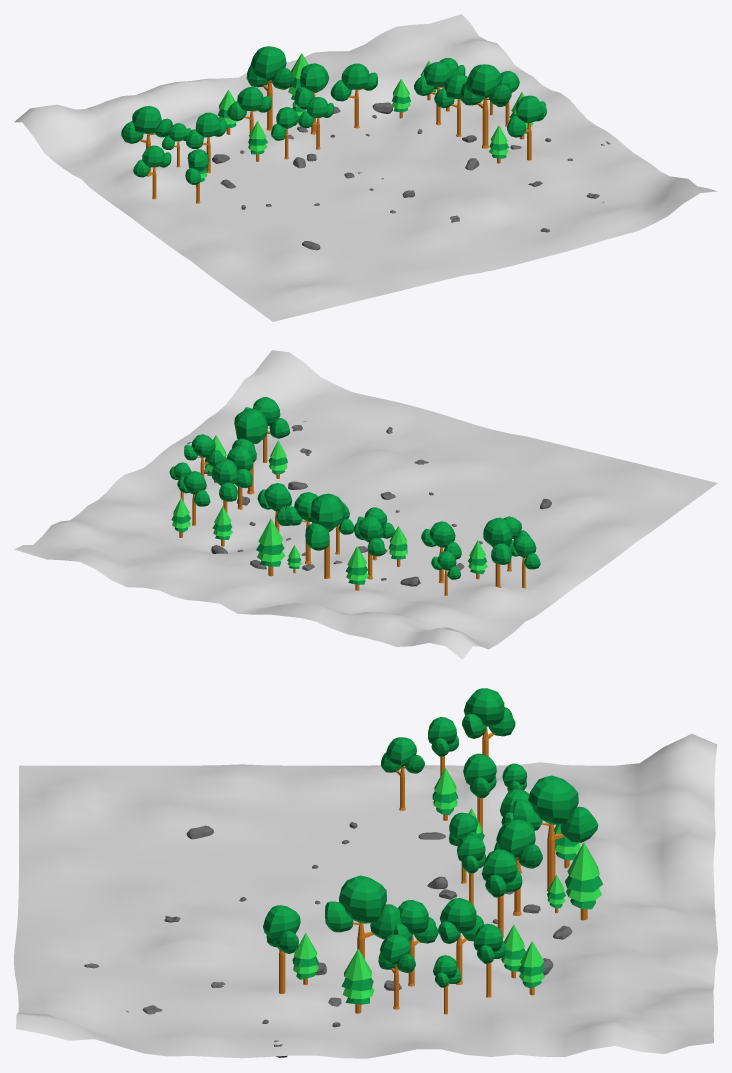
3 views of the same model, one above another, from view 1: azimuth 30°, elevation 25°; view 2: azimuth 150°, elevation 25°; view 3: azimuth 270°, elevation 25° (orthographic). The views are drawn at different scales.
Visible parts, largest first — view 1: Plane.017; view 2: Plane.017; view 3: Plane.017.
Part boxes in pixels (<box>): Plane.017: <box>14,14,716,321</box>; Plane.017: <box>14,350,717,659</box>; Plane.017: <box>14,688,717,1058</box>.
Bounding box in the file's own units: 11841 × 2419 × 11851.
